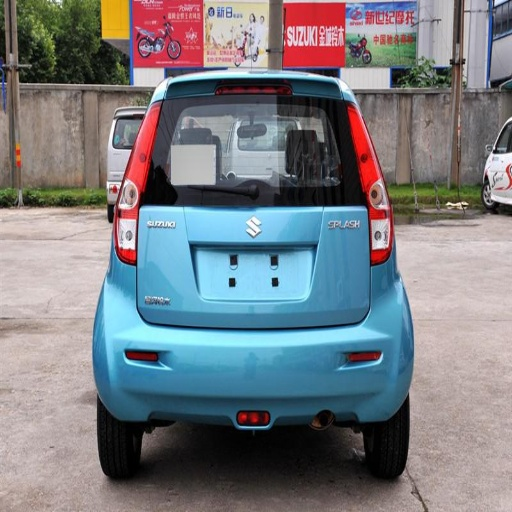back_bumper: (91, 259, 414, 435)
tailgate: (143, 234, 367, 327)
trunk: (129, 156, 377, 325)
